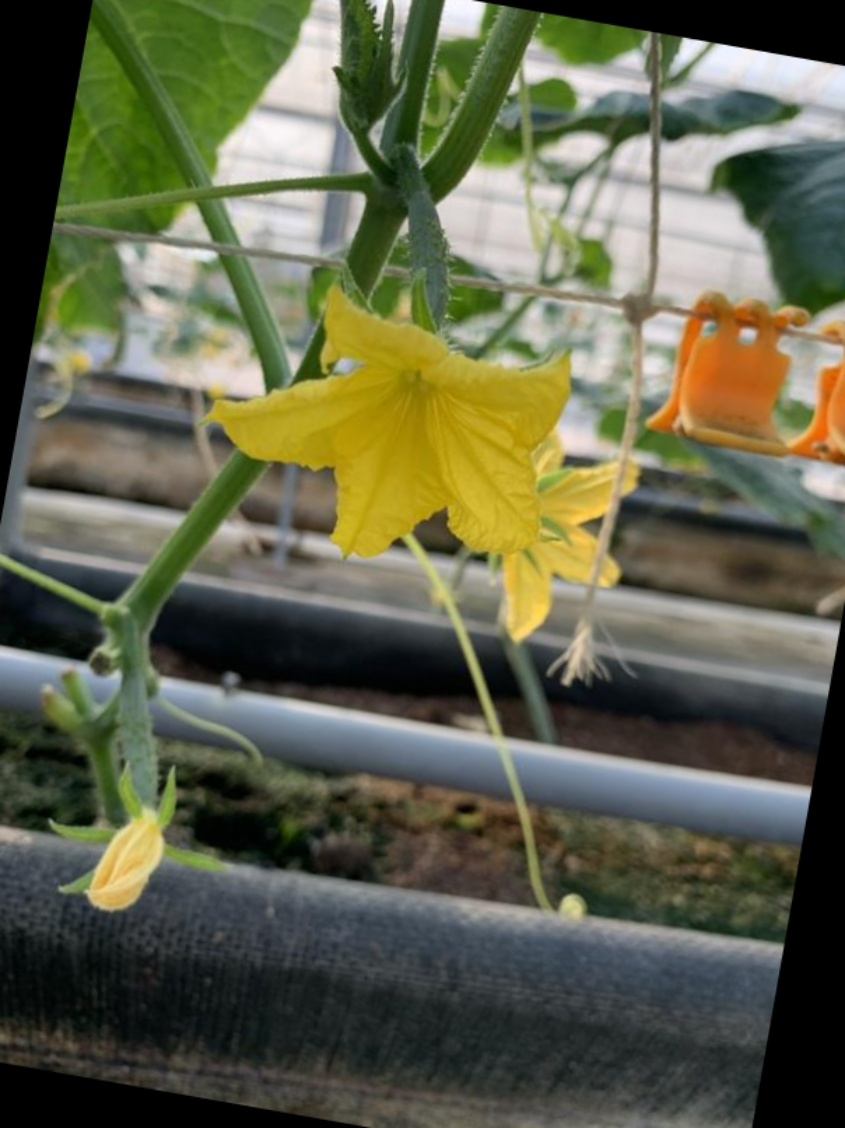flowering: (206, 167, 598, 563)
